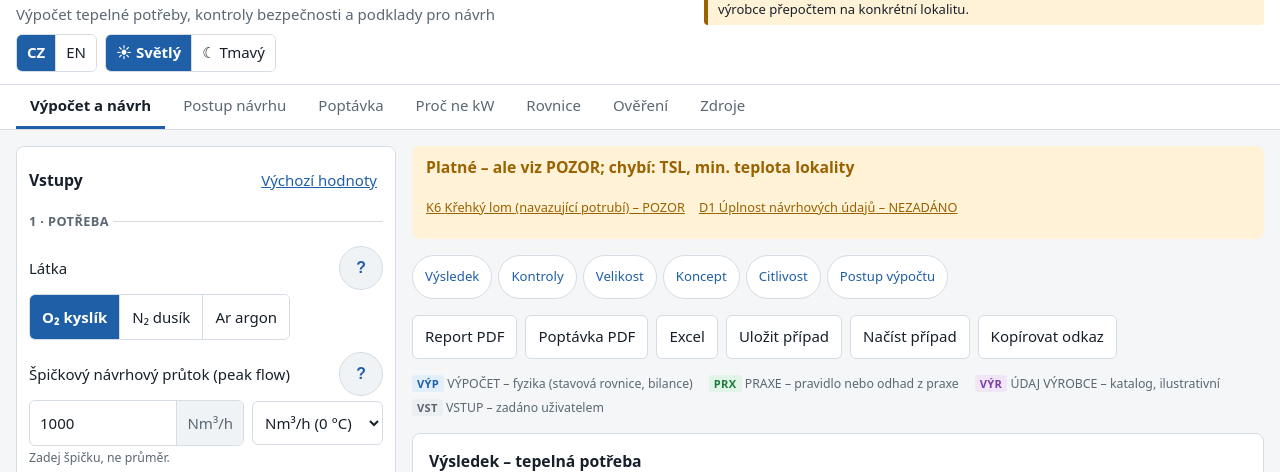
Test case: poptávka › změna látky se promítne do poptávky (N₂ → běžná čistota)
The image size is (1280, 472).
Click the radio button labelled "N₂ dusík": coordinates (162, 318) [120,296,203,340]
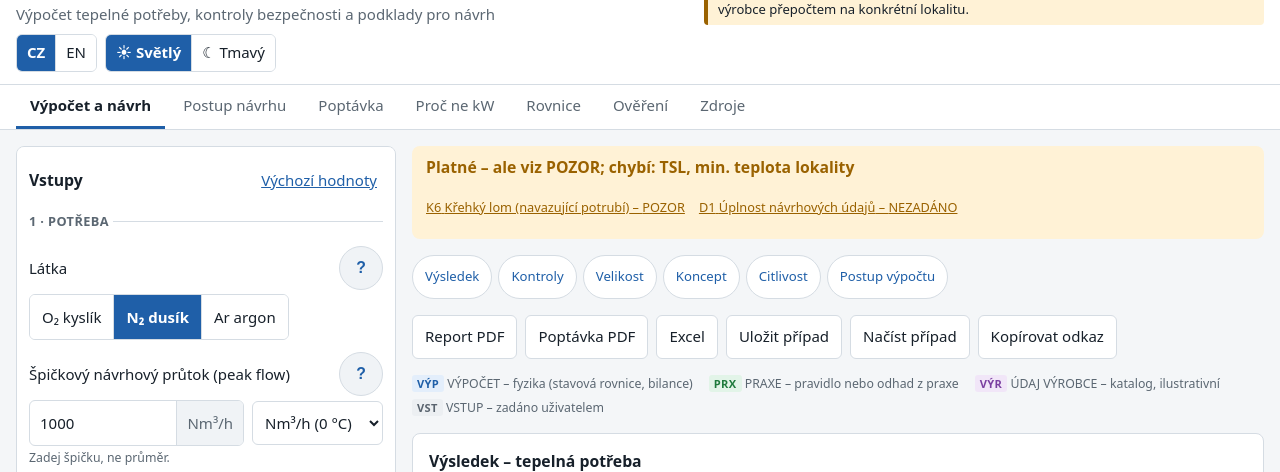
Click the button "Poptávka": coordinates (351, 107) [304,85,398,129]
(page scrolled)
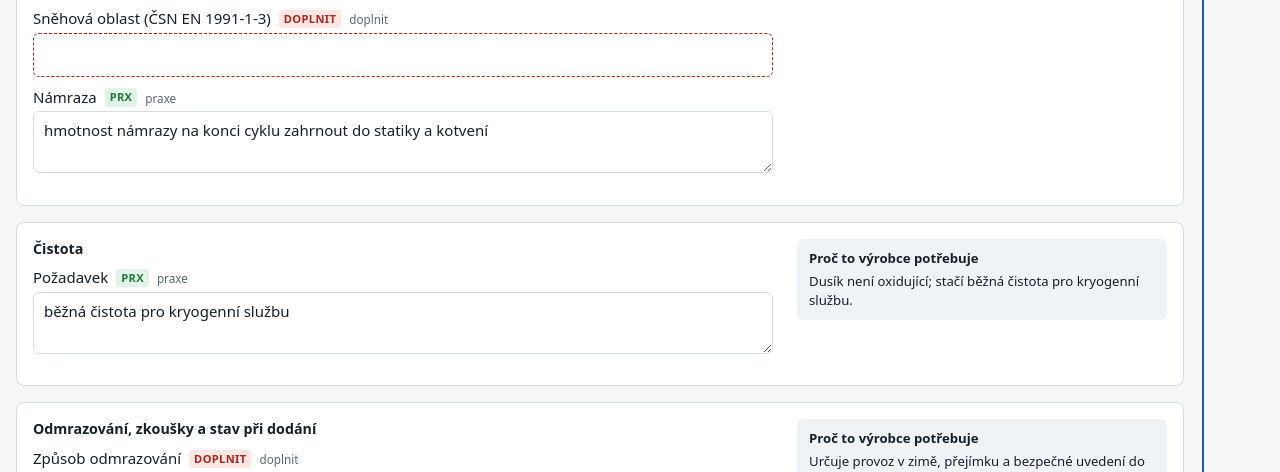
Expected: the text box labelled "Požadavek" holds "běžná čistota pro kryogenní službu", [33,292,773,354]
